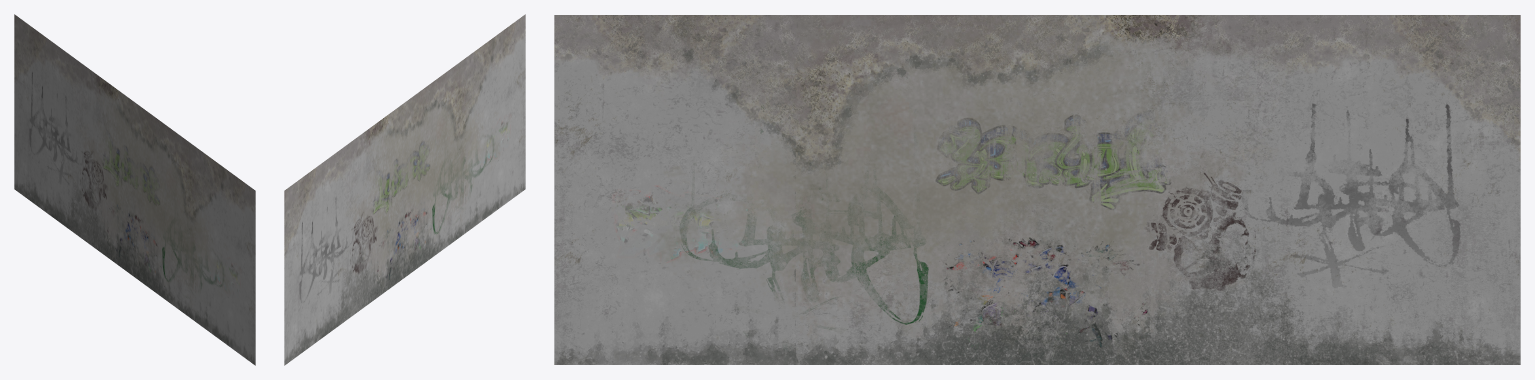
File: paredCuar.glb
3 views of the same model, side by side, from view 1: azimuth 30°, elevation 25°; view 2: azimuth 150°, elevation 25°; view 3: azimuth 270°, elevation 25° (orthographic). The views are drawn at different scales.
Parts seen in each view (by area): view 1: ParedCuarentena; view 2: ParedCuarentena; view 3: ParedCuarentena.
Boxes of the visible parts, <box> form: ParedCuarentena: <box>14,14,255,365</box>; ParedCuarentena: <box>284,14,525,365</box>; ParedCuarentena: <box>554,15,1520,364</box>.
Size of the model in its own units: 0 by 2 by 5.
Materials: 1 (1 with a texture image).
